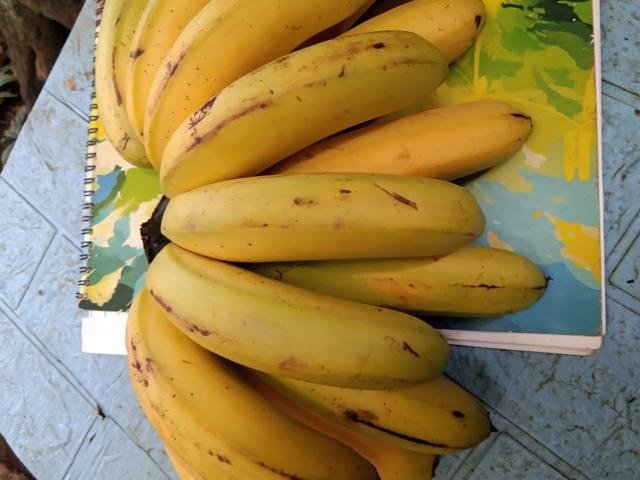freshripe: (321, 92, 539, 182)
ripe: (159, 21, 435, 187), (111, 301, 347, 479), (145, 242, 441, 383), (150, 170, 472, 268), (317, 350, 504, 453)
